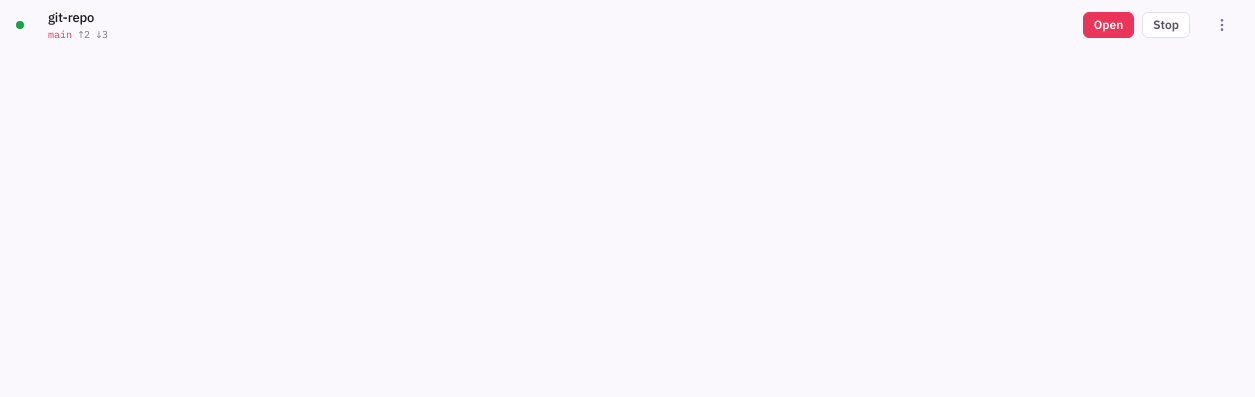
Test: ProjectRow › shows Fetch, Pull, Push in overflow menu when project has git_status
Click the button named "Project actions" at (1222, 25), box [1206,9,1238,41]
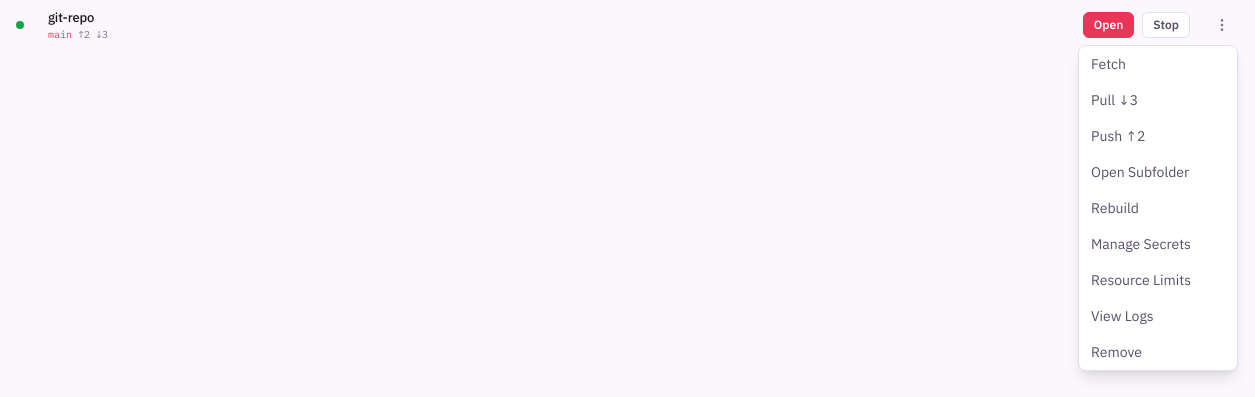
Result: the button "Fetch" is shown at [1079,46,1237,82]
Result: the button "Pull ↓3" is shown at [1079,82,1237,118]
Result: the button "Push ↑2" is shown at [1079,118,1237,154]
